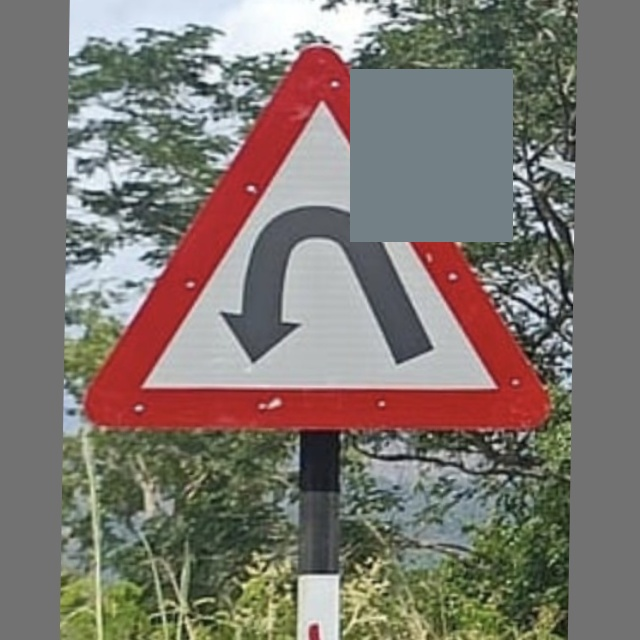Left_Hair_Pin_Bend: (92, 52, 549, 434)
